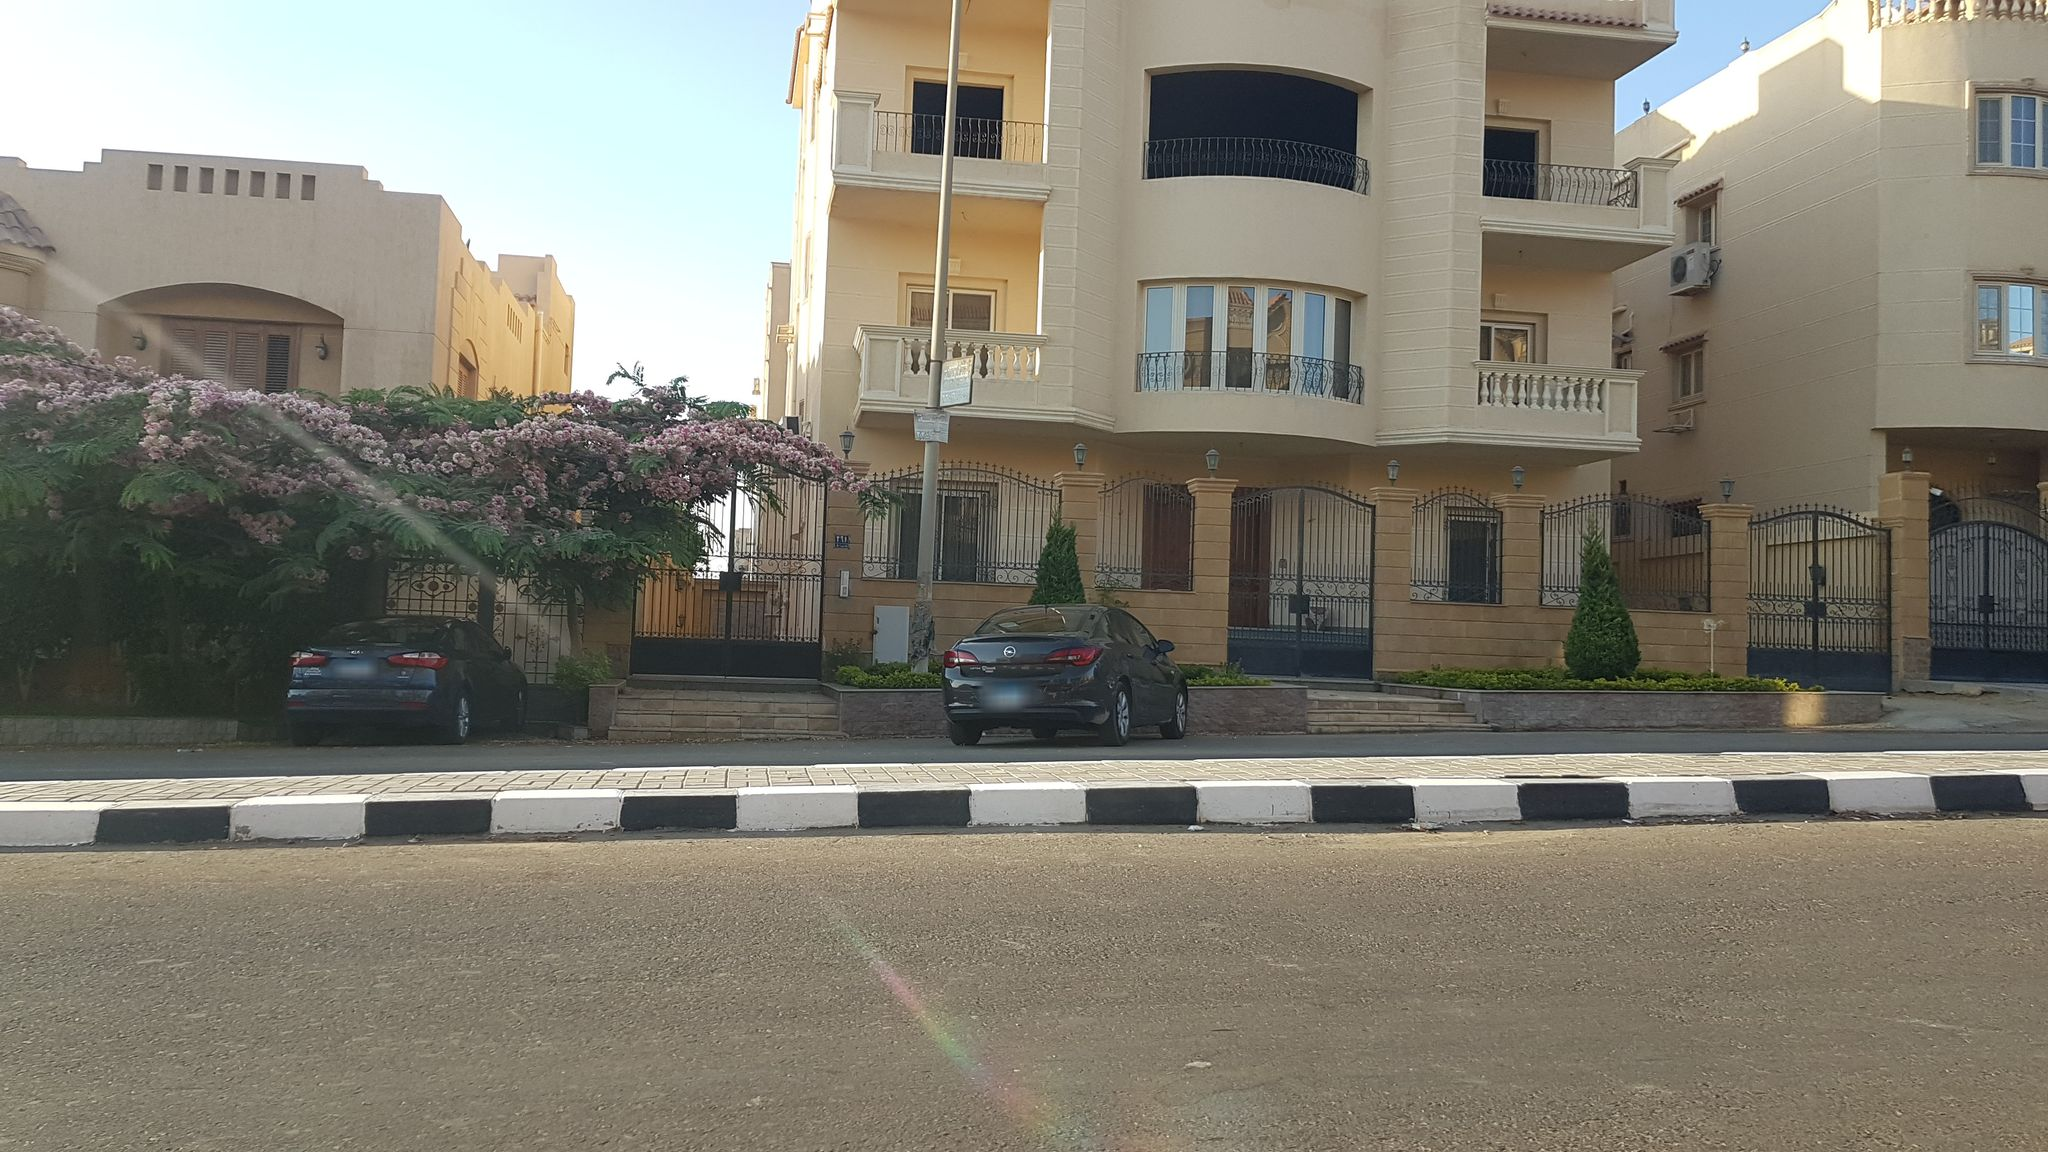car: (281, 613, 535, 744), (942, 603, 1190, 736)
